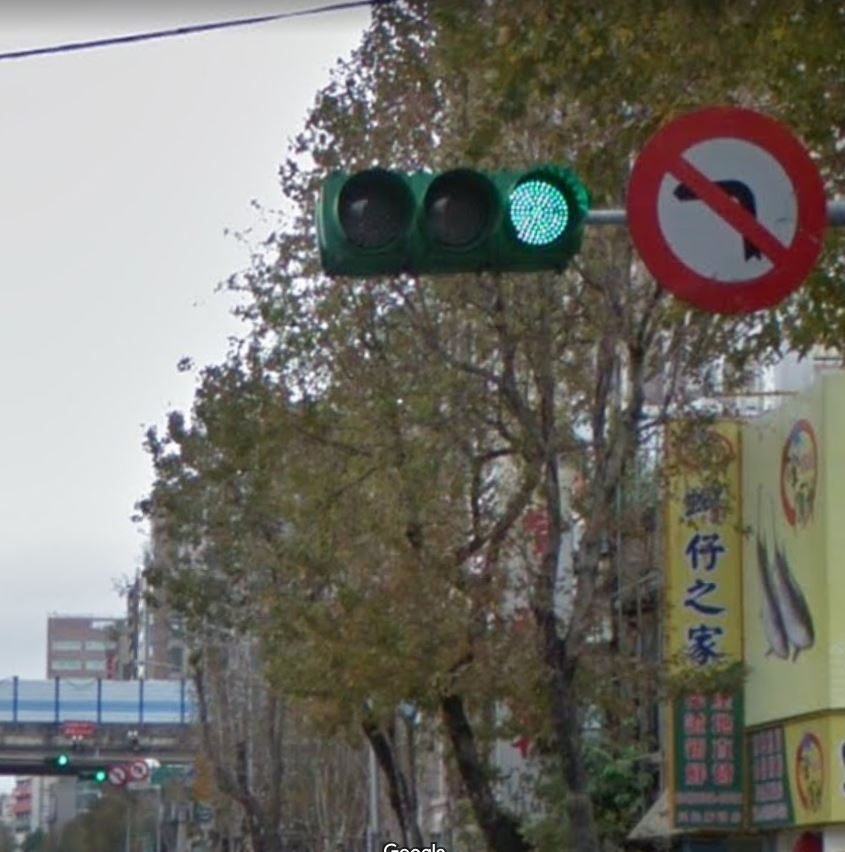Traffic_light_green: (319, 162, 587, 274)
